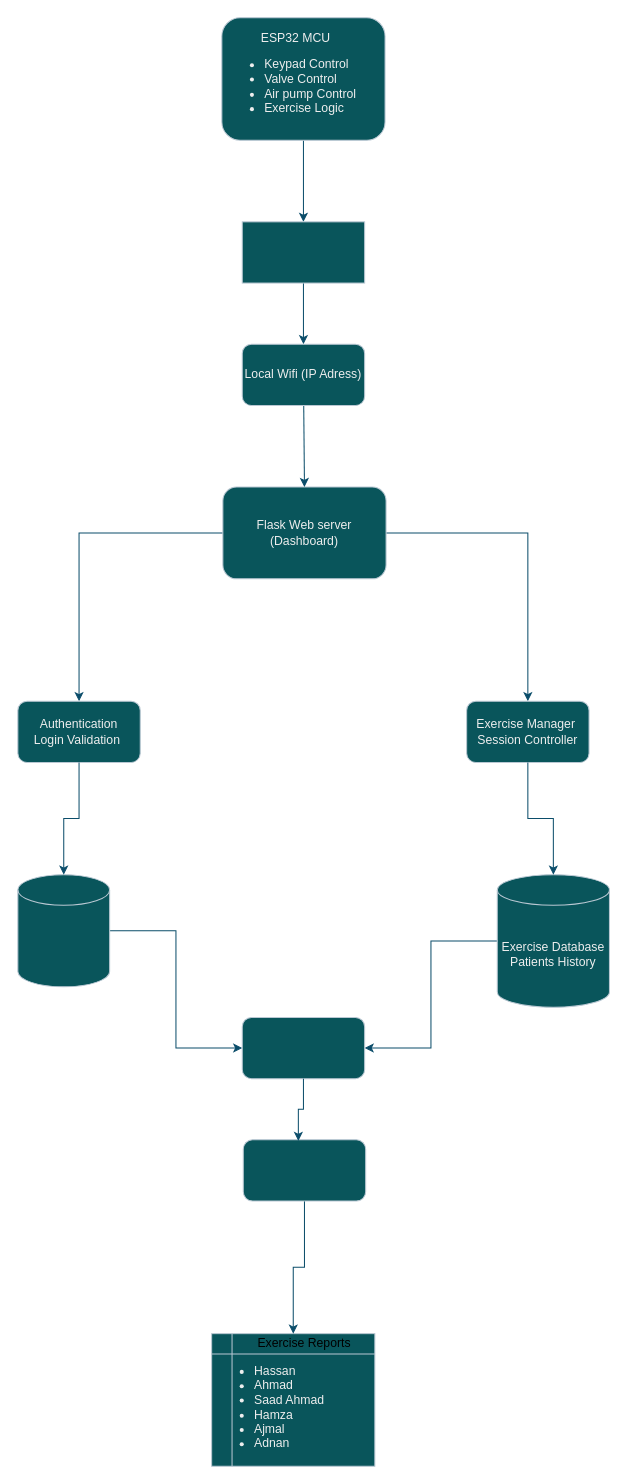
Image size: 627x1484. Some labels were removed from this diagram. The box of each missing label's shape, as (x1, y1, x2, y2) in pixels:
Doctor / Therapist Share Google Dirve Folder: (242, 1139, 366, 1201)
Google Drive CSV Backup: (241, 1016, 365, 1079)
User Database Patients.csv: (17, 874, 110, 987)
Wifi Communication: (241, 221, 365, 283)
